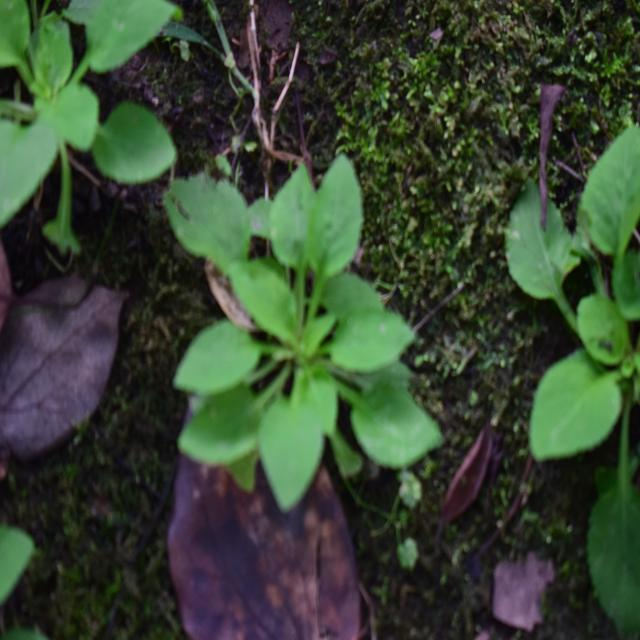Viola: (159, 165, 448, 493)
